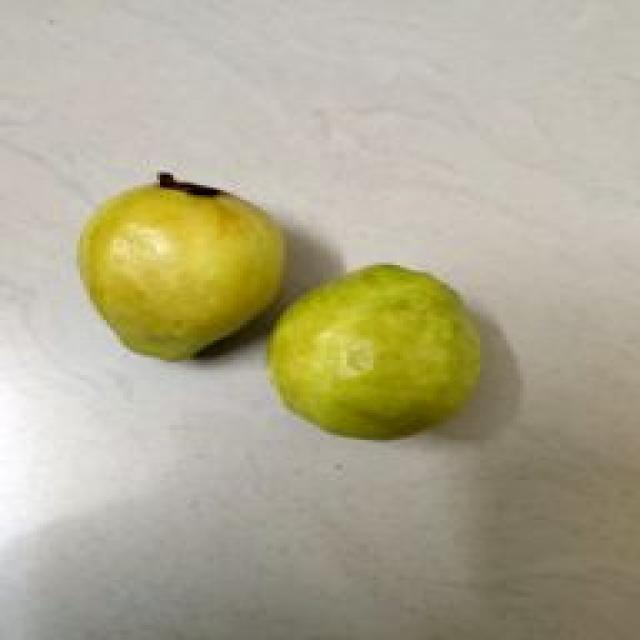Good_Guava: (263, 262, 483, 445), (77, 175, 287, 362)
